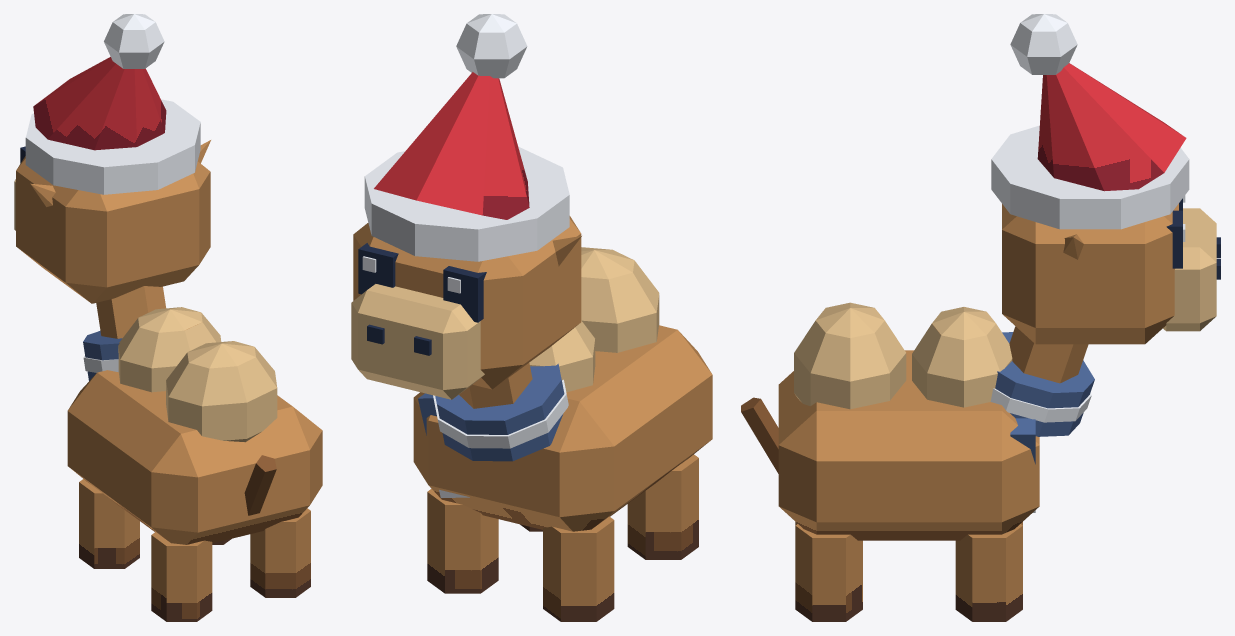
File: claus.glb
3 views of the same model, side by side, from view 1: azimuth 30°, elevation 25°; view 2: azimuth 150°, elevation 25°; view 3: azimuth 270°, elevation 25° (orthographic). The views are drawn at different scales.
Parts seen in each view (by area): view 1: claus; view 2: claus; view 3: claus.
Boxes of the visible parts, <box> form: claus: <box>14,14,322,621</box>; claus: <box>351,14,712,621</box>; claus: <box>741,14,1220,621</box>.
Size of the model in its own units: 0.5497 by 1.49 by 1.14.
1 material, 1 textured.
